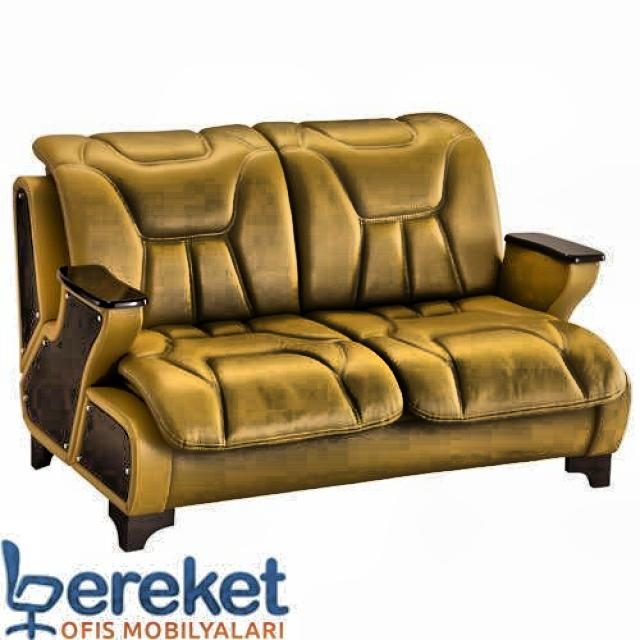sofa: (12, 110, 632, 552)
